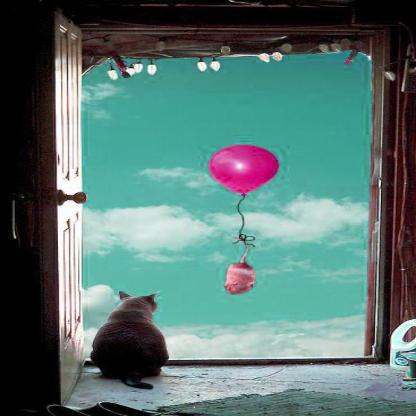door: (38, 5, 402, 410)
